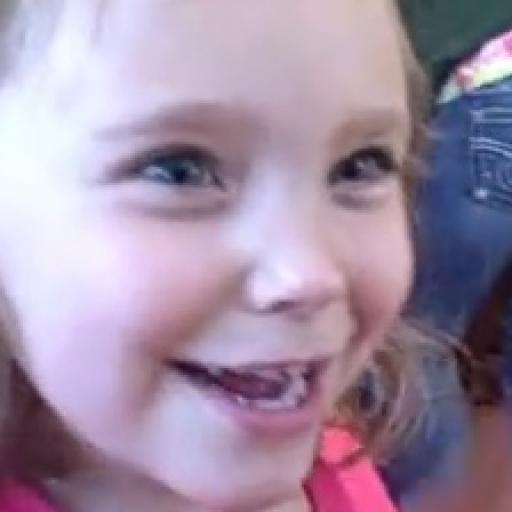Autism: (28, 13, 427, 512)
